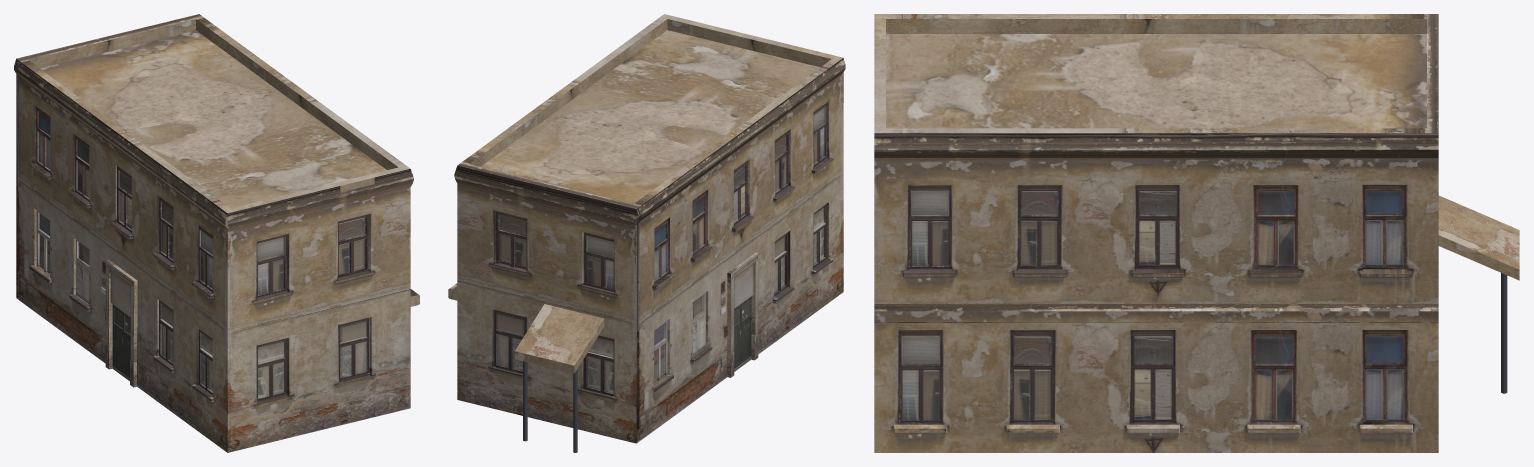
The model's file is 破败楼阁.glb.
3 views of the same model, side by side, from view 1: azimuth 30°, elevation 25°; view 2: azimuth 150°, elevation 25°; view 3: azimuth 270°, elevation 25° (orthographic). The views are drawn at different scales.
Bounding box in the file's own units: 4.28 × 5.01 × 9.15.
2 materials, 2 textured.
